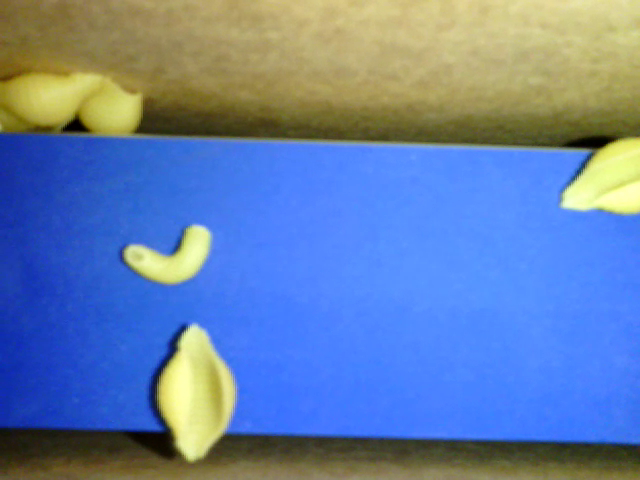elbow: (125, 221, 212, 283)
shell: (160, 325, 236, 462), (558, 135, 639, 217), (1, 63, 111, 120), (76, 73, 144, 138), (1, 106, 76, 132)
